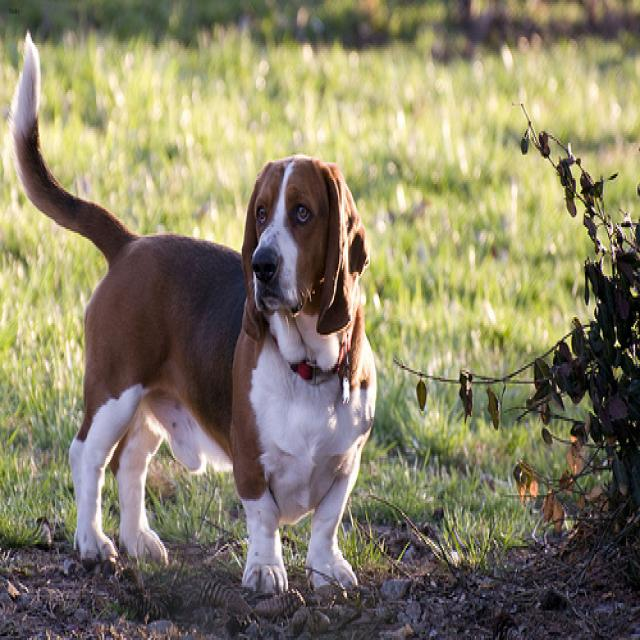dog-basset_hound: (3, 16, 385, 615)
